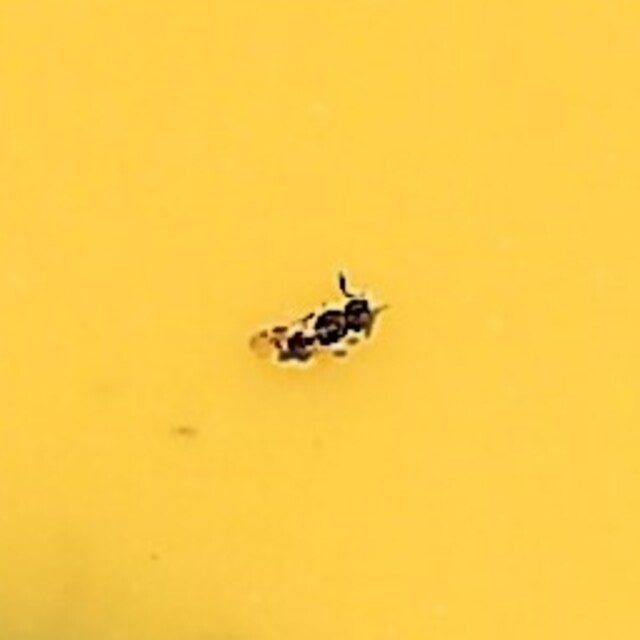Hymenoptera: (250, 268, 390, 372)
